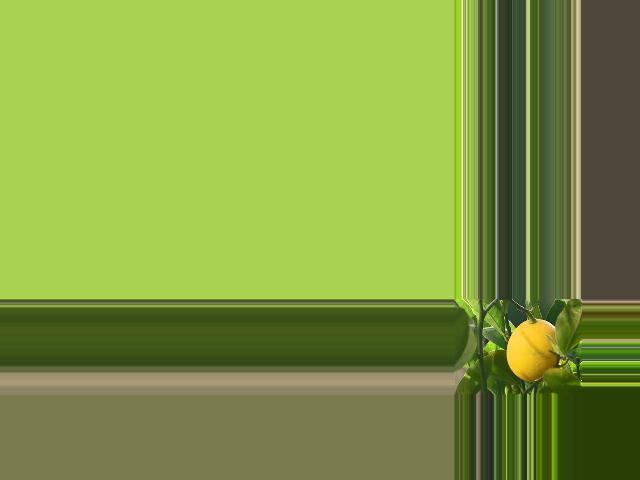lemon: (505, 314, 560, 383)
